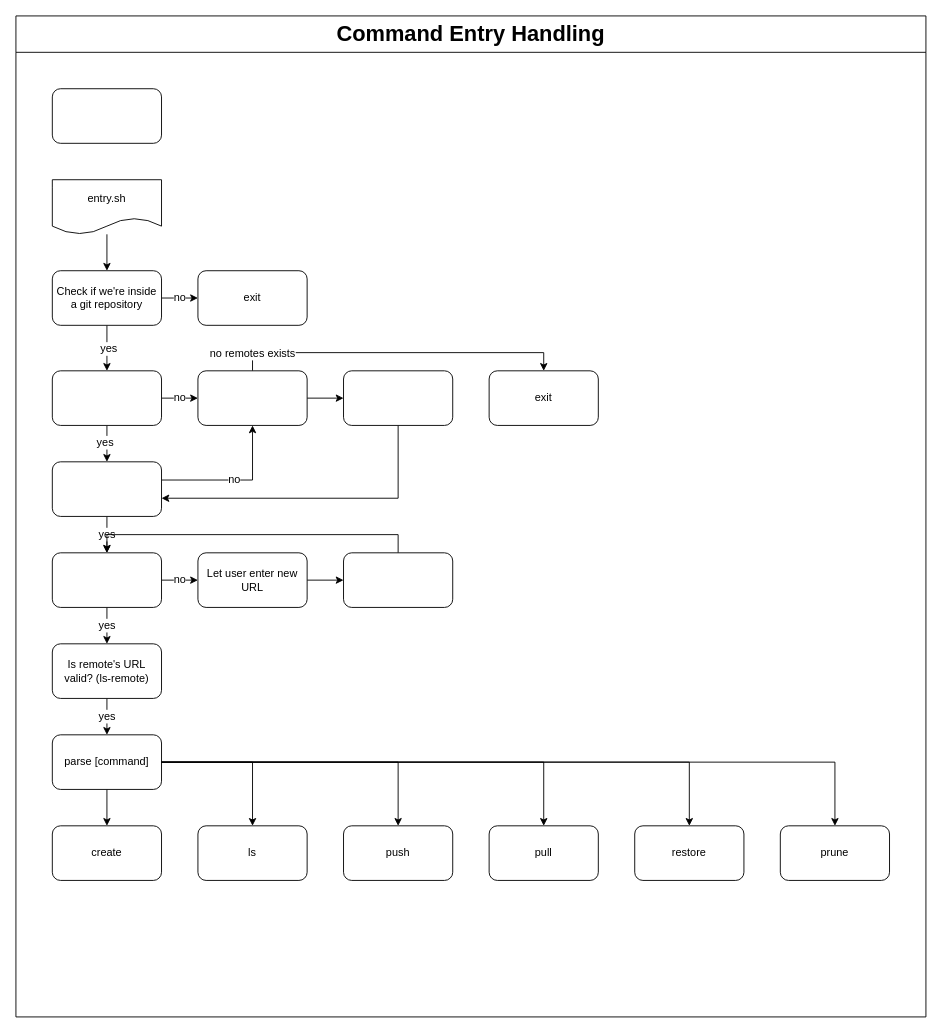
Image size: 942x1033. Some labels were removed from this diagram. Each missing label, with the centre of its shape:
"Add chosen remote name to local config file" belongs at (x=398, y=397).
"Does this remote actually exists?" belongs at (x=106, y=488).
"git backup [command] [option]" belongs at (x=106, y=115).
"Is remote for backup set in local config file?" belongs at (x=106, y=397).
"Is remote's URL's valid? (ls-remote)" belongs at (x=106, y=579).
"Let user choose between existing remotes" belongs at (x=252, y=397).
"Set it as the remote's URL" belongs at (x=398, y=579).
